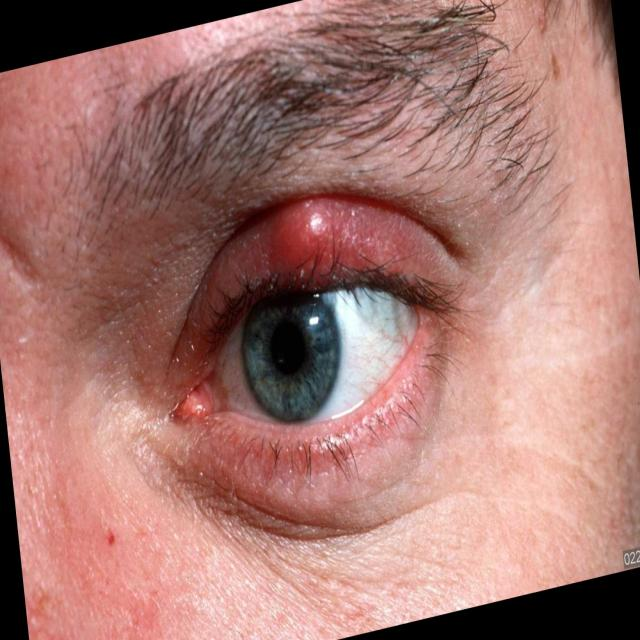Chalazion: (138, 168, 479, 497)
